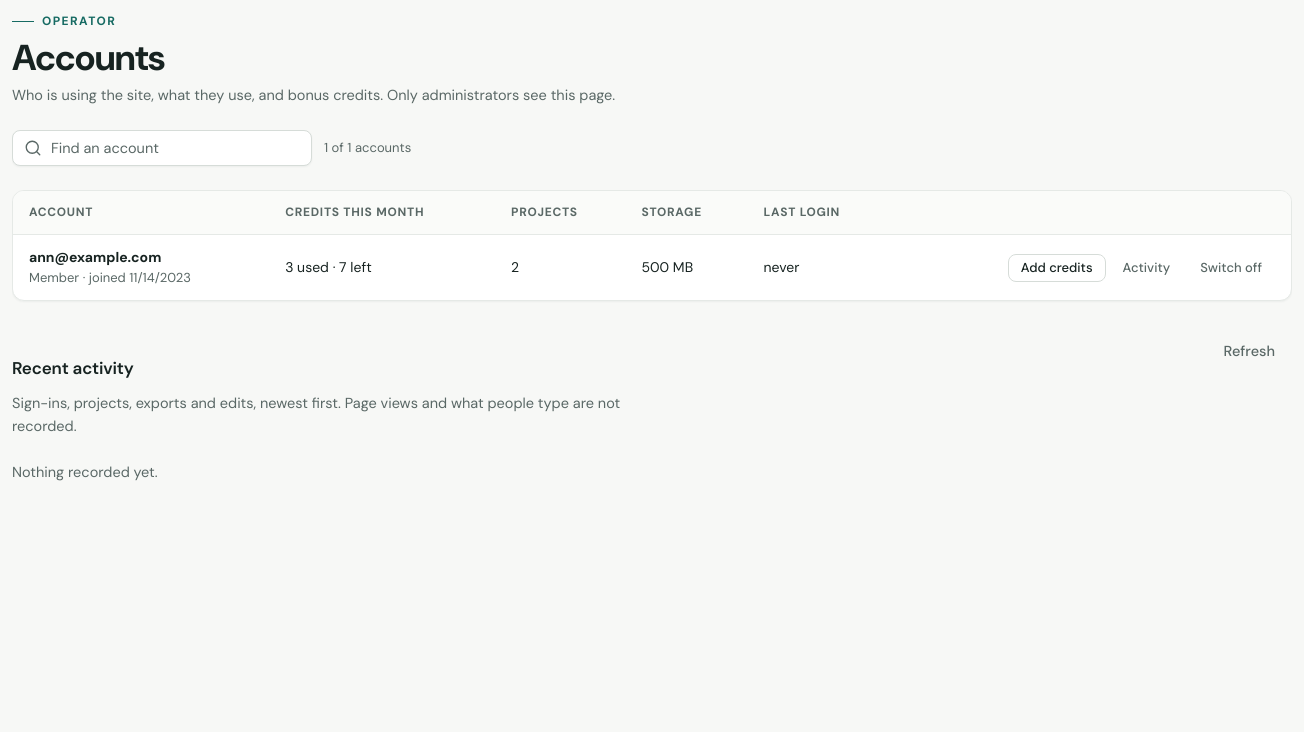
Test case: AdminPage › adds bonus credits and shows the answer
The image size is (1304, 732).
Click the button with aria-label "Add credits to ann@example.com": (1057, 268) [1008,254,1106,282]
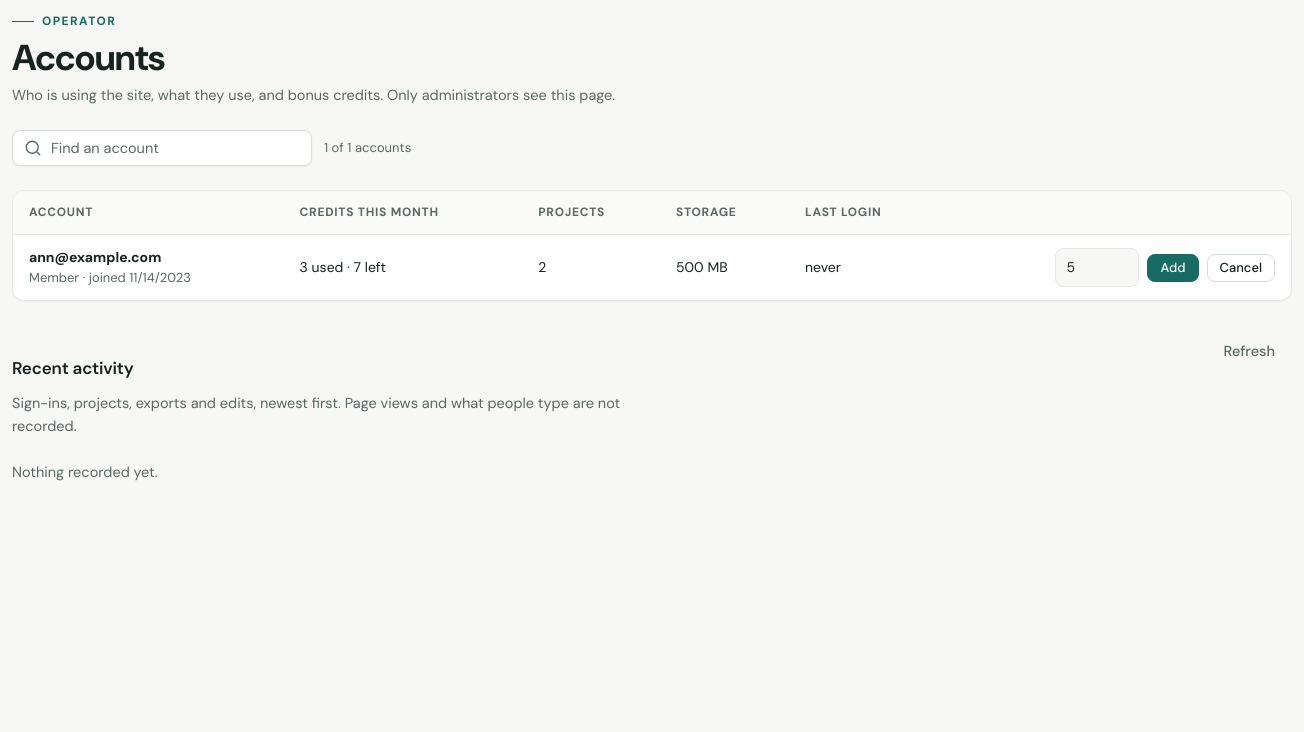
Click the button "Add": (1173, 268) [1148,254,1198,282]
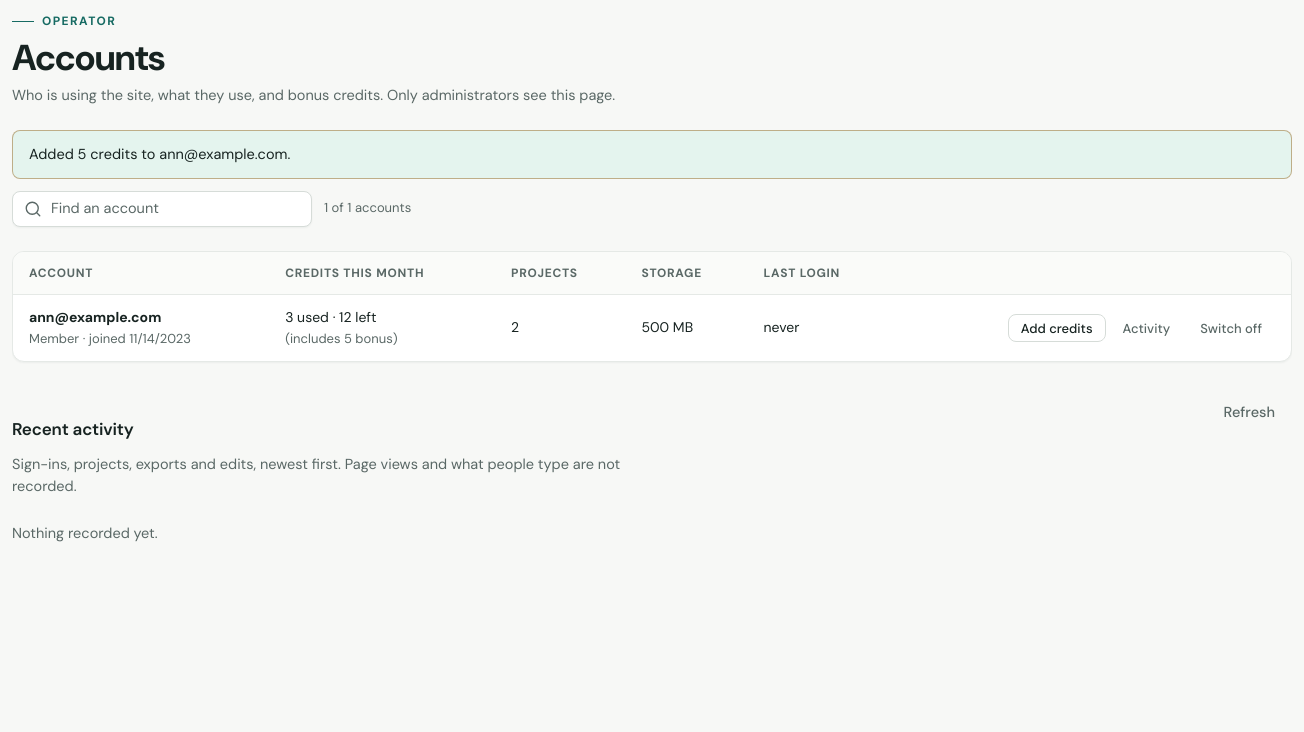
Result: the message reads "Added 5 credits to ann@example.com." at [29,145,290,163]
Result: the text "(includes 5 bonus)" is shown at [285,330,398,347]
